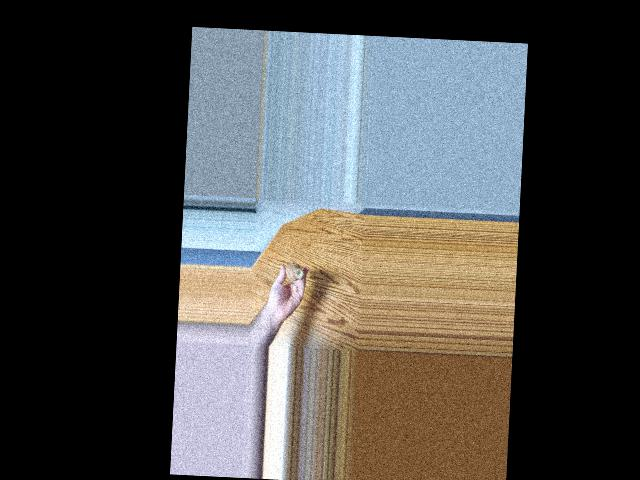sweet_potato: (284, 261, 303, 280)
